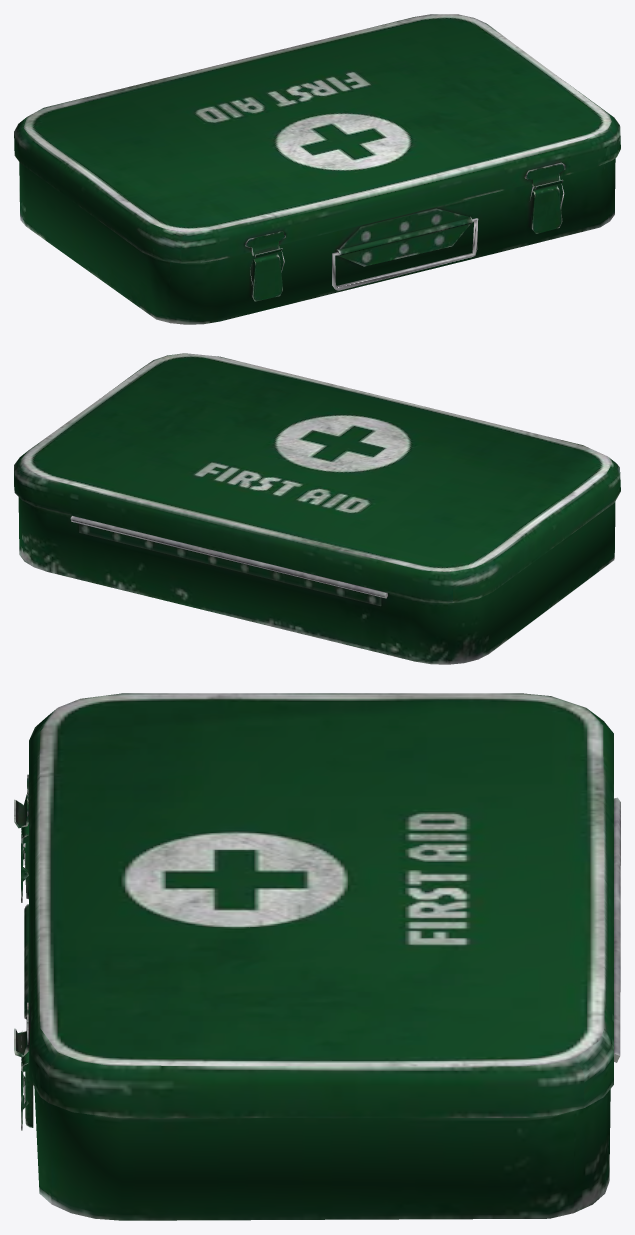
Rendered from medkit.glb.
3 views of the same model, one above another, from view 1: azimuth 30°, elevation 25°; view 2: azimuth 150°, elevation 25°; view 3: azimuth 270°, elevation 25° (orthographic). The views are drawn at different scales.
Parts seen in each view (by area): view 1: medical_box_latch; view 2: medical_box_latch; view 3: medical_box_latch.
Boxes of the visible parts, x1,y1,x2,y2 form: medical_box_latch: (14, 14, 620, 324); medical_box_latch: (14, 353, 620, 664); medical_box_latch: (14, 693, 620, 1220).
Bounding box in the file's own units: 0.3941 × 0.0726 × 0.2626.
1 material, 1 textured.
